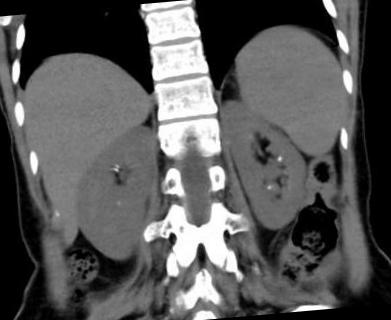Tas_Var: (274, 153, 282, 164), (114, 198, 122, 208), (266, 183, 272, 192), (112, 166, 118, 174), (113, 162, 120, 168)
